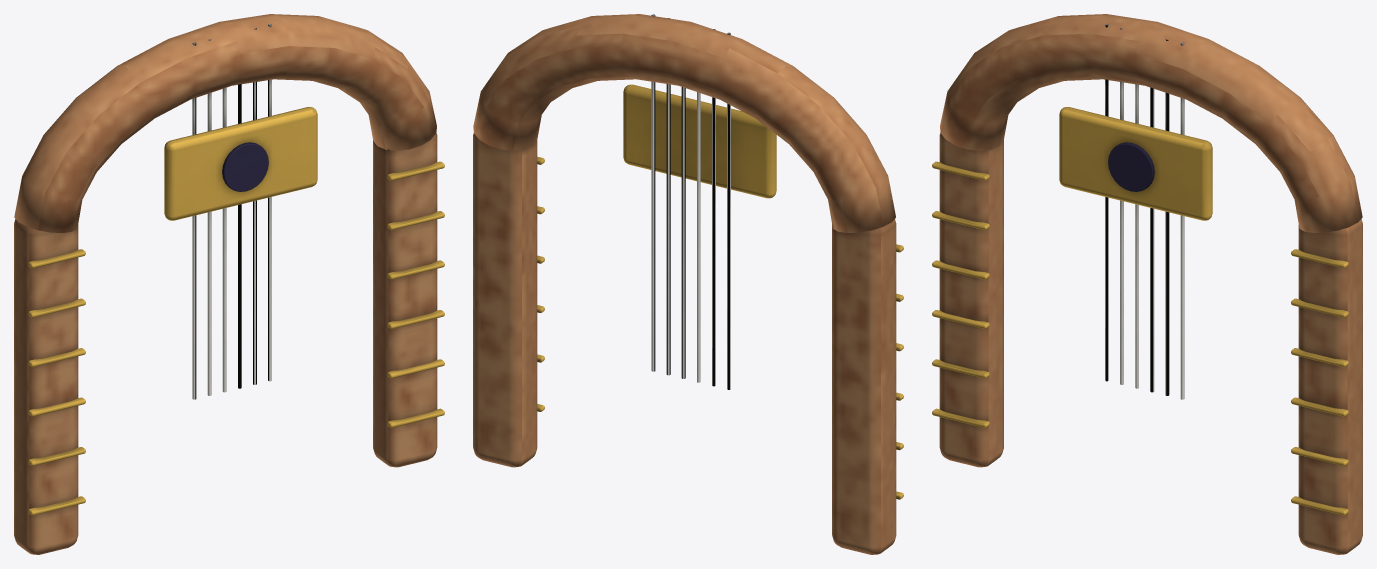
Rendered from GateStrings.fbx.
The picture shows the model from 3 angles, left to right: view 1: azimuth 30°, elevation 25°; view 2: azimuth 150°, elevation 25°; view 3: azimuth 330°, elevation 25°; orthographic projection.
Parts seen in each view (by area): view 1: GateStrings_Body; view 2: GateStrings_Body; view 3: GateStrings_Body.
Boxes of the visible parts, bbox=[...] form: GateStrings_Body: bbox=[14, 14, 444, 554]; GateStrings_Body: bbox=[473, 14, 903, 554]; GateStrings_Body: bbox=[932, 14, 1362, 554].
Size of the model in its own units: 4.39 by 4.85 by 0.685.
